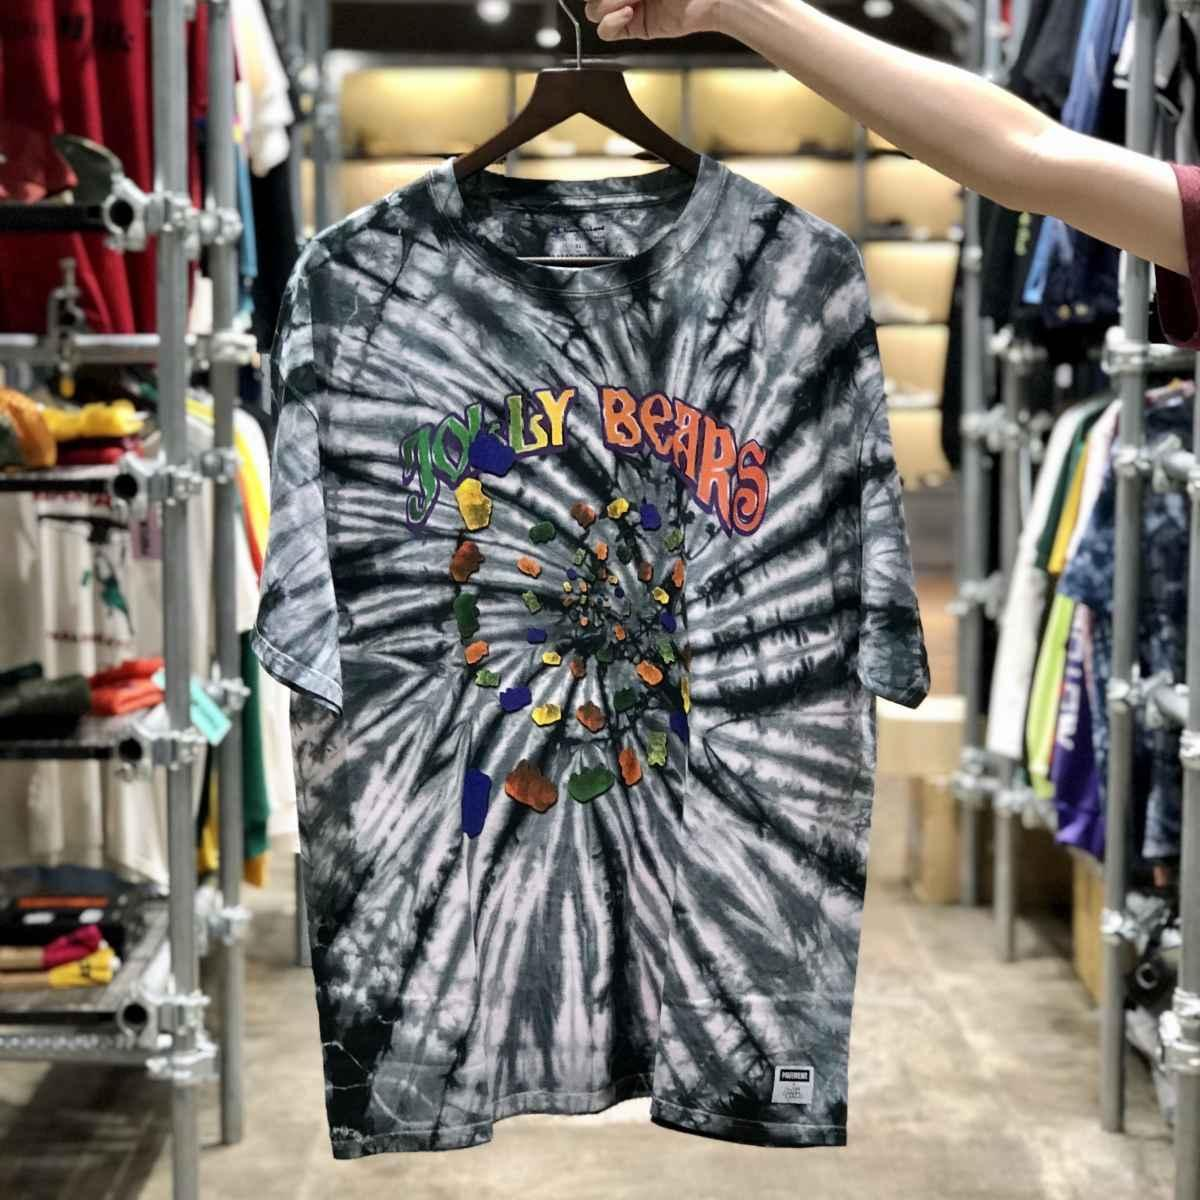Tshirt: (270, 178, 925, 1122)
